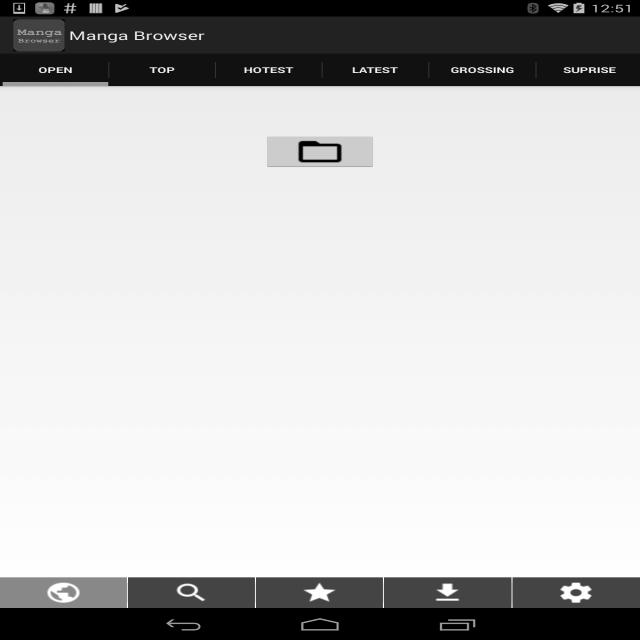ImageButton: (263, 134, 377, 169)
ImageView: (14, 19, 64, 52), (44, 580, 83, 604), (172, 580, 211, 604), (300, 580, 339, 604), (428, 580, 467, 604), (557, 580, 595, 604)
TextView: (69, 27, 205, 43), (451, 64, 514, 76), (563, 64, 616, 76), (244, 64, 293, 76), (352, 64, 398, 76), (38, 64, 72, 76), (149, 64, 175, 76)
